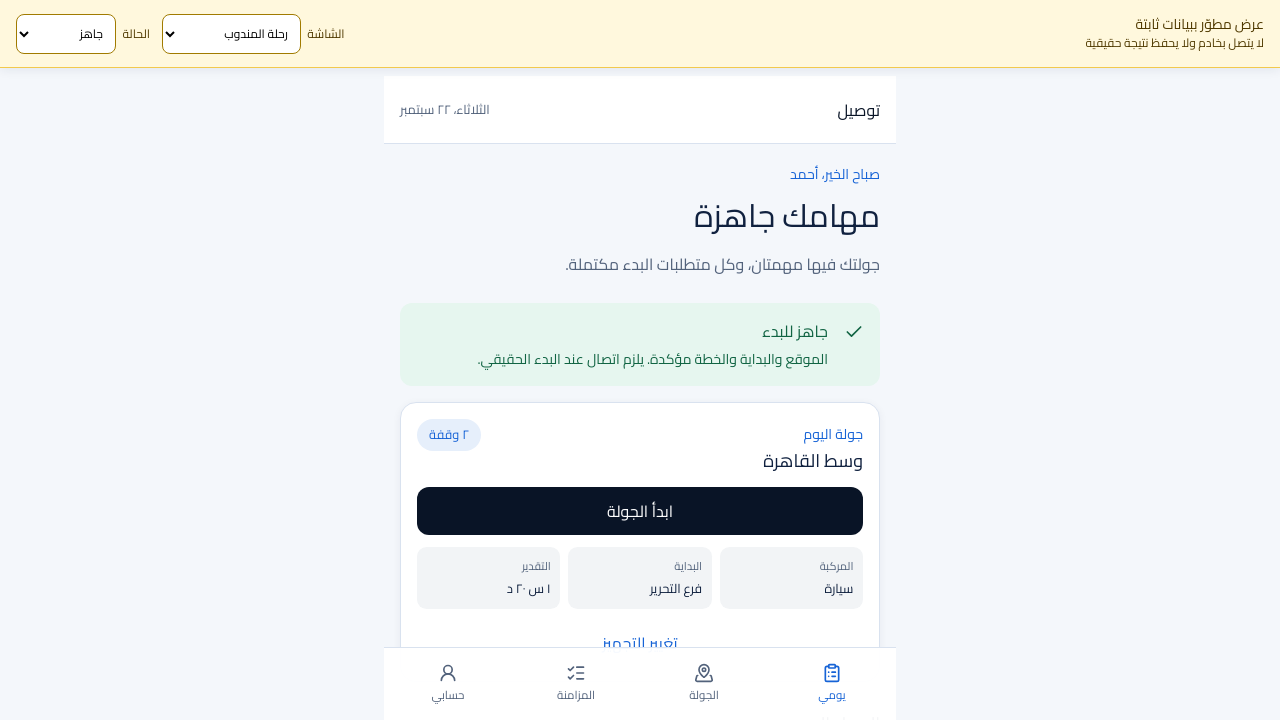
Test: representative driver fixture › keeps heading, arrival, and outcome as separate explicit transitions
Click the button "ابدأ الجولة" at (640, 510), box 417,486 -> 863,534
(page scrolled)
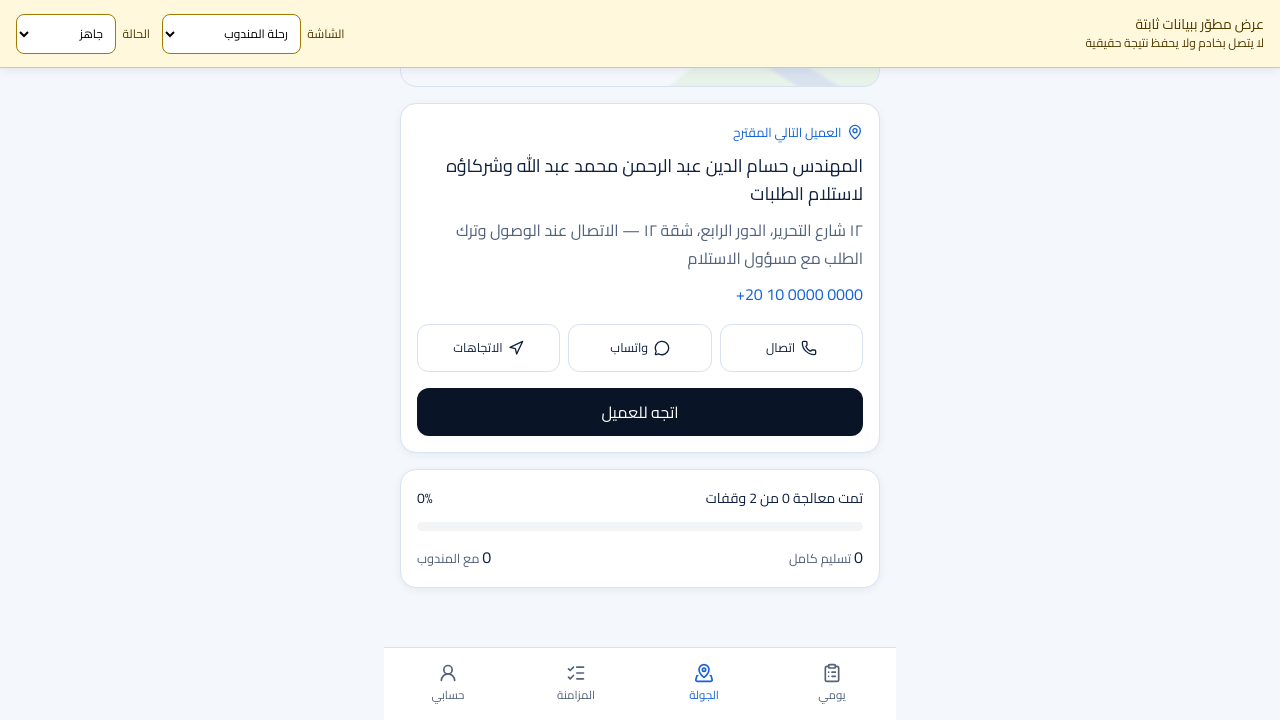
Check: the button "اتجه للعميل" is shown
Click the button "اتجه للعميل" at (640, 412), box 417,388 -> 863,436
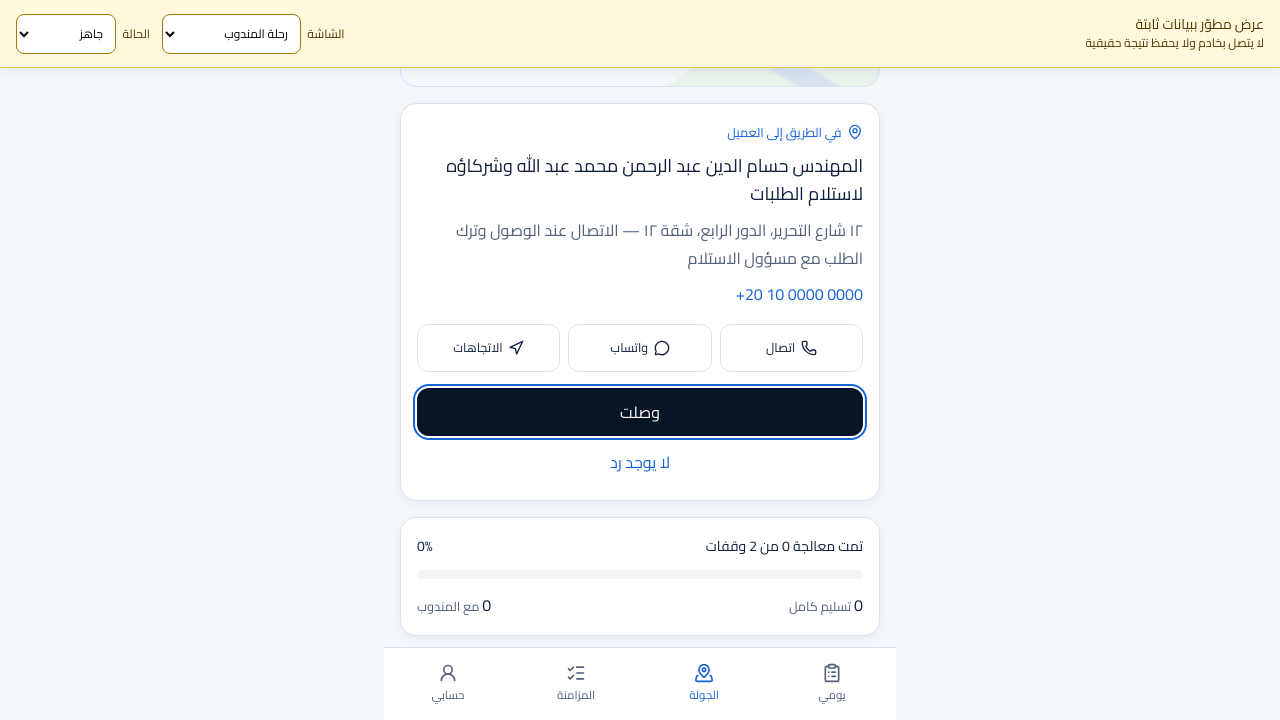
Check: the button "سجّل النتيجة" is not shown
Check: the button "وصلت" is shown
Click the button "وصلت" at (640, 412), box 417,388 -> 863,436
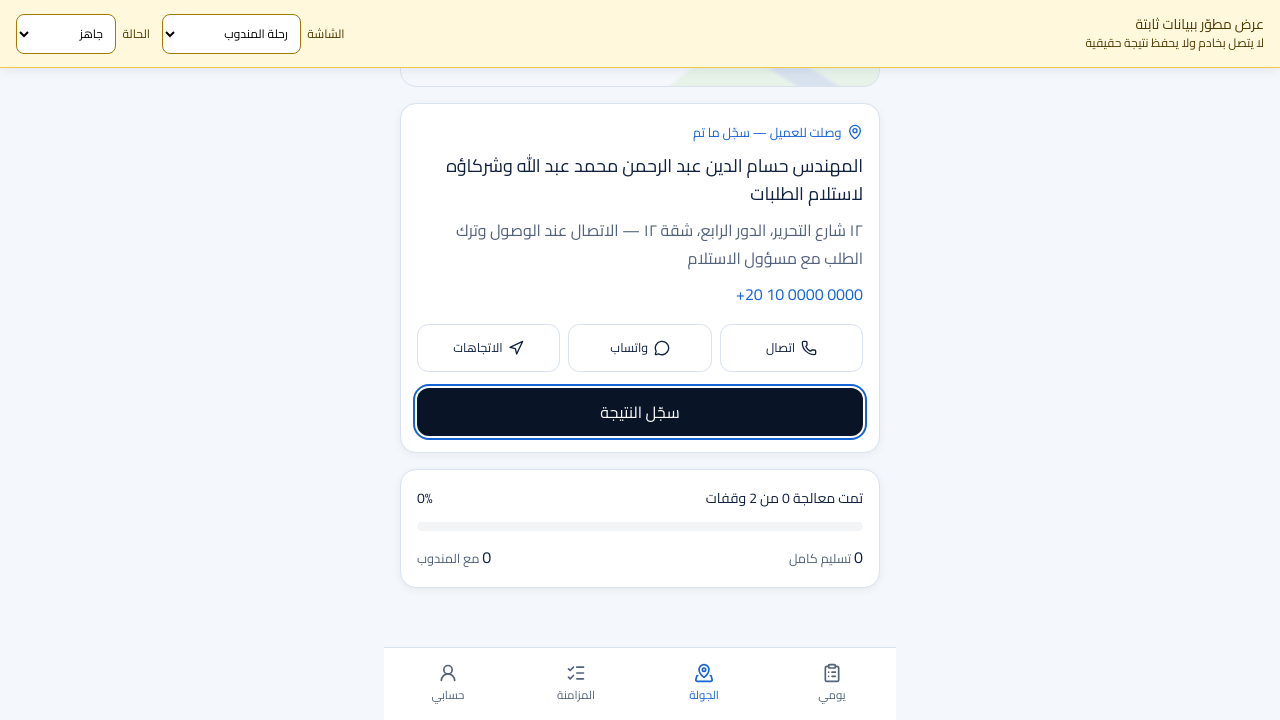
Check: the button "سجّل النتيجة" is shown, box 417,388 -> 863,436
